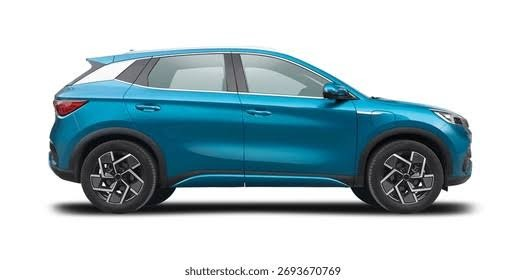car: (42, 46, 482, 218)
